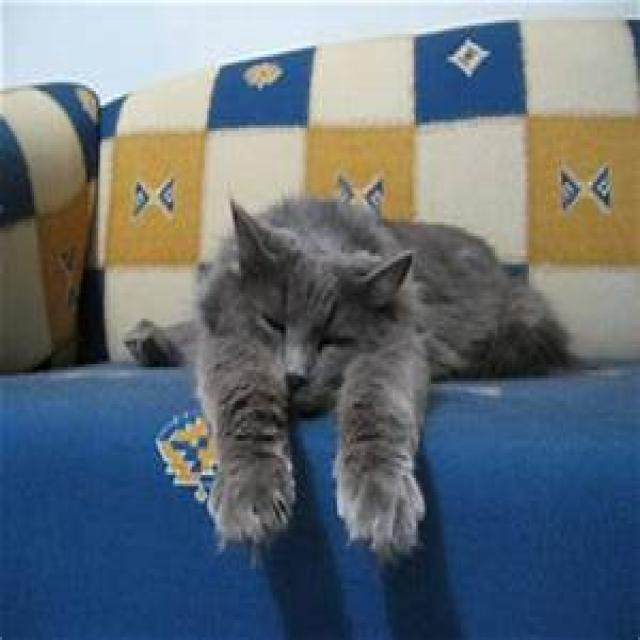animal: (124, 174, 536, 582)
